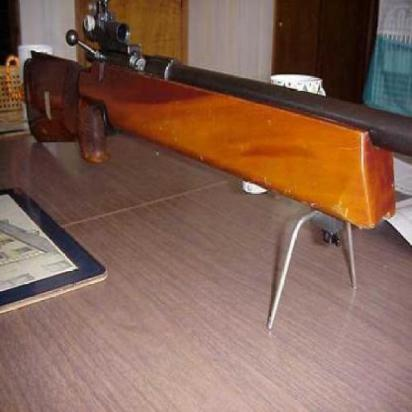Gun: (13, 1, 411, 281)
